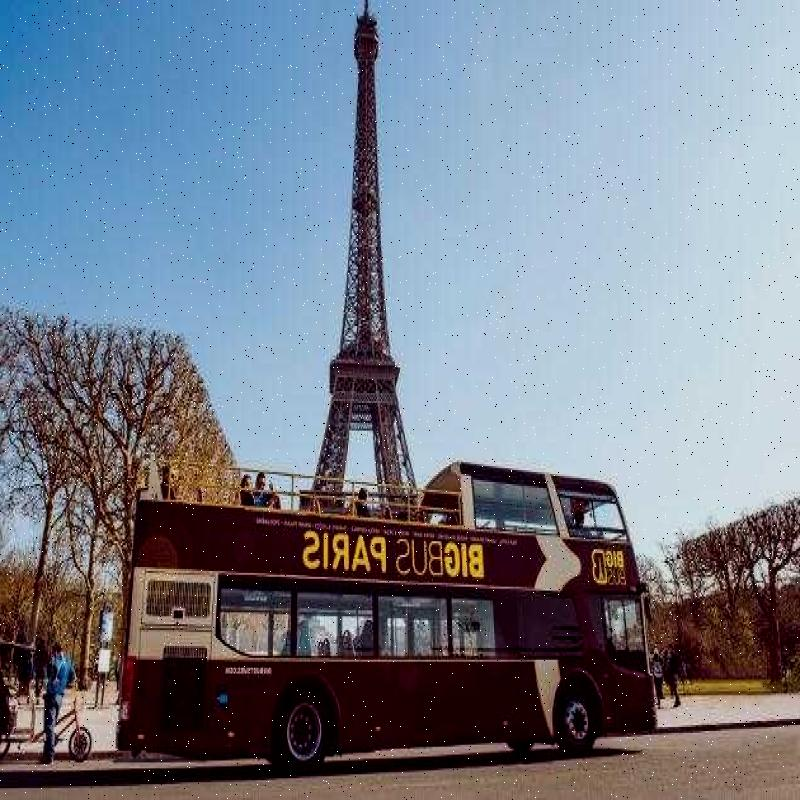bus: (106, 410, 665, 784)
